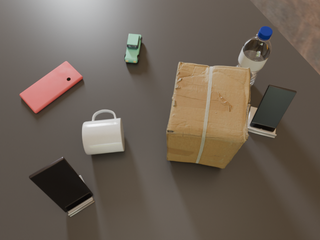bottle: (236, 26, 272, 87)
box: (166, 62, 251, 168)
cup: (82, 110, 125, 155)
phone: (29, 157, 93, 212), (20, 61, 83, 113), (250, 85, 296, 132)
toy_car: (125, 34, 142, 63)
